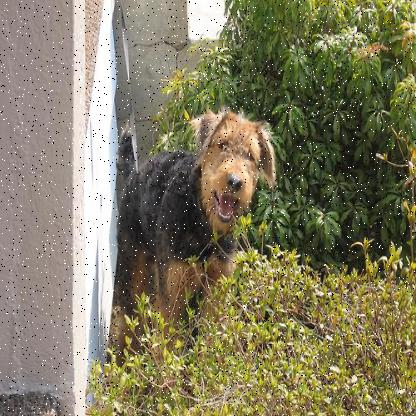dog: (107, 105, 282, 331)
